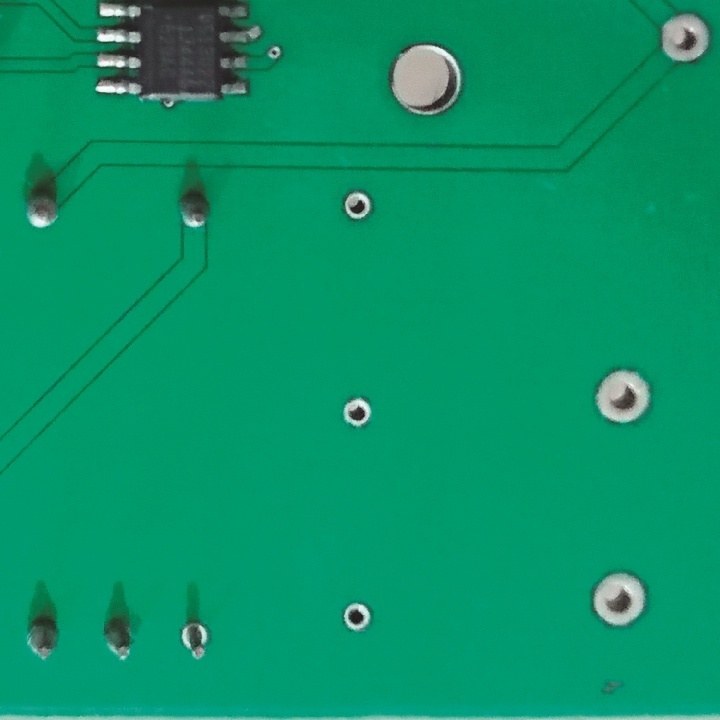F: (587, 567, 650, 637), (590, 362, 653, 430), (657, 8, 712, 70), (176, 616, 213, 663), (340, 599, 376, 638), (339, 189, 377, 223), (340, 392, 374, 430)
